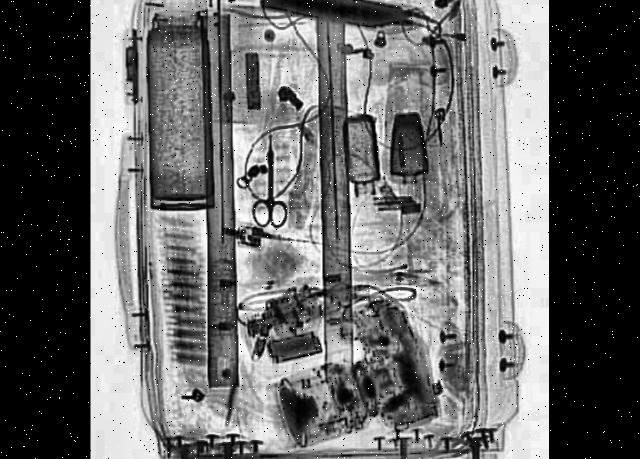Scissors: (253, 136, 290, 227)
